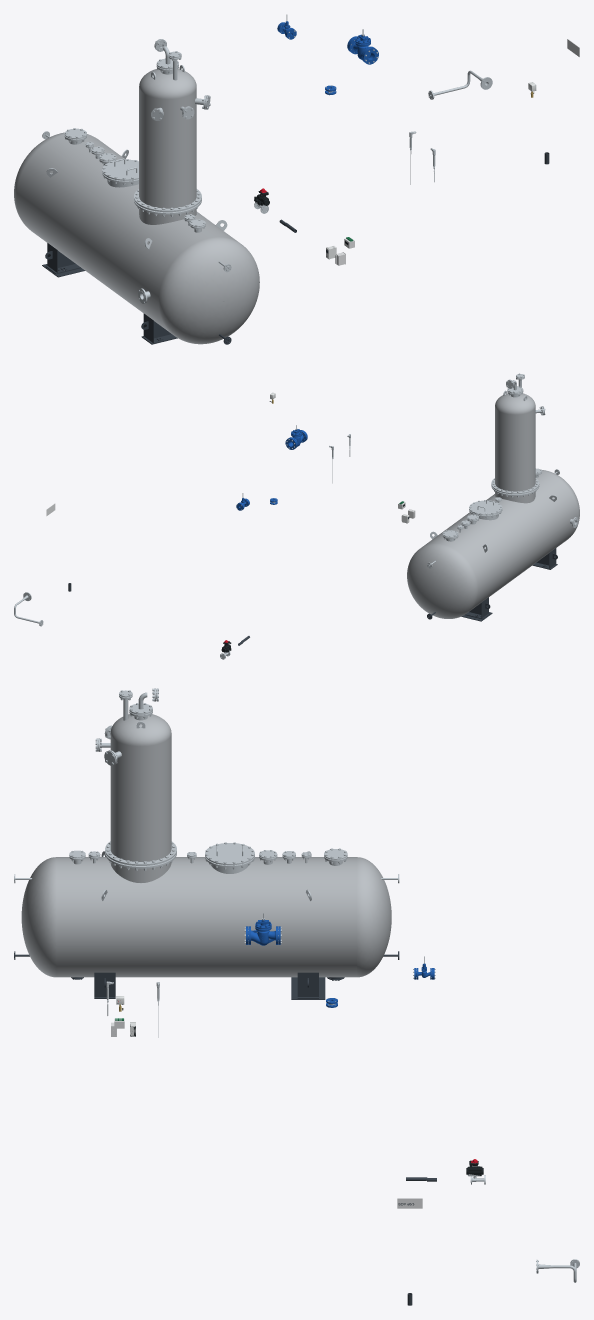
3 renders of one model, top to bottom at view 1: azimuth 30°, elevation 25°; view 2: azimuth 150°, elevation 25°; view 3: azimuth 270°, elevation 25°, orthographic. The views are drawn at different scales.
Parts seen in each view (by area): view 1: deaerator CAD solid 56, deaerator CAD solid 257, deaerator CAD solid 408; view 2: deaerator CAD solid 56, deaerator CAD solid 257, deaerator CAD solid 408; view 3: deaerator CAD solid 56, deaerator CAD solid 257, deaerator CAD solid 408.
Part boxes in pixels (x1,y1,x2,y2): deaerator CAD solid 56: (14,132,259,344); deaerator CAD solid 257: (139,68,196,208); deaerator CAD solid 408: (102,159,138,180); deaerator CAD solid 56: (407,469,579,618); deaerator CAD solid 257: (495,393,535,491); deaerator CAD solid 408: (469,500,502,515); deaerator CAD solid 56: (21,857,391,977); deaerator CAD solid 257: (110,714,171,861); deaerator CAD solid 408: (205,843,254,865).
Size of the model in its own units: 8.5 by 4.75 by 6.68.
